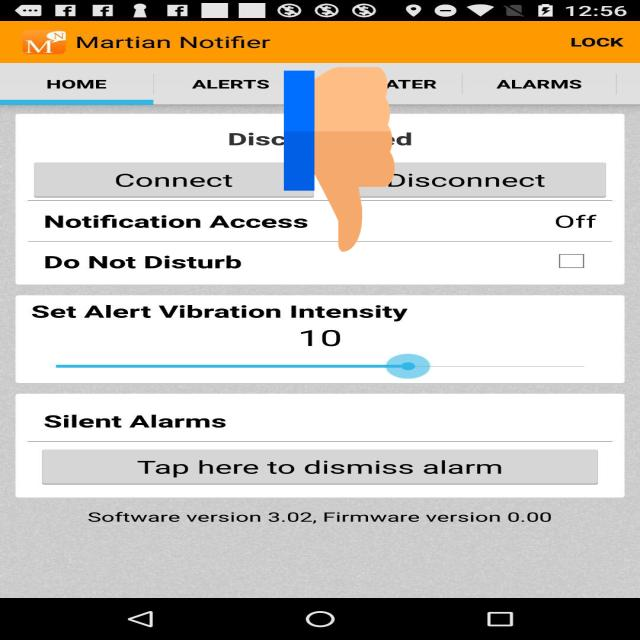obstruction: (284, 62, 395, 256)
